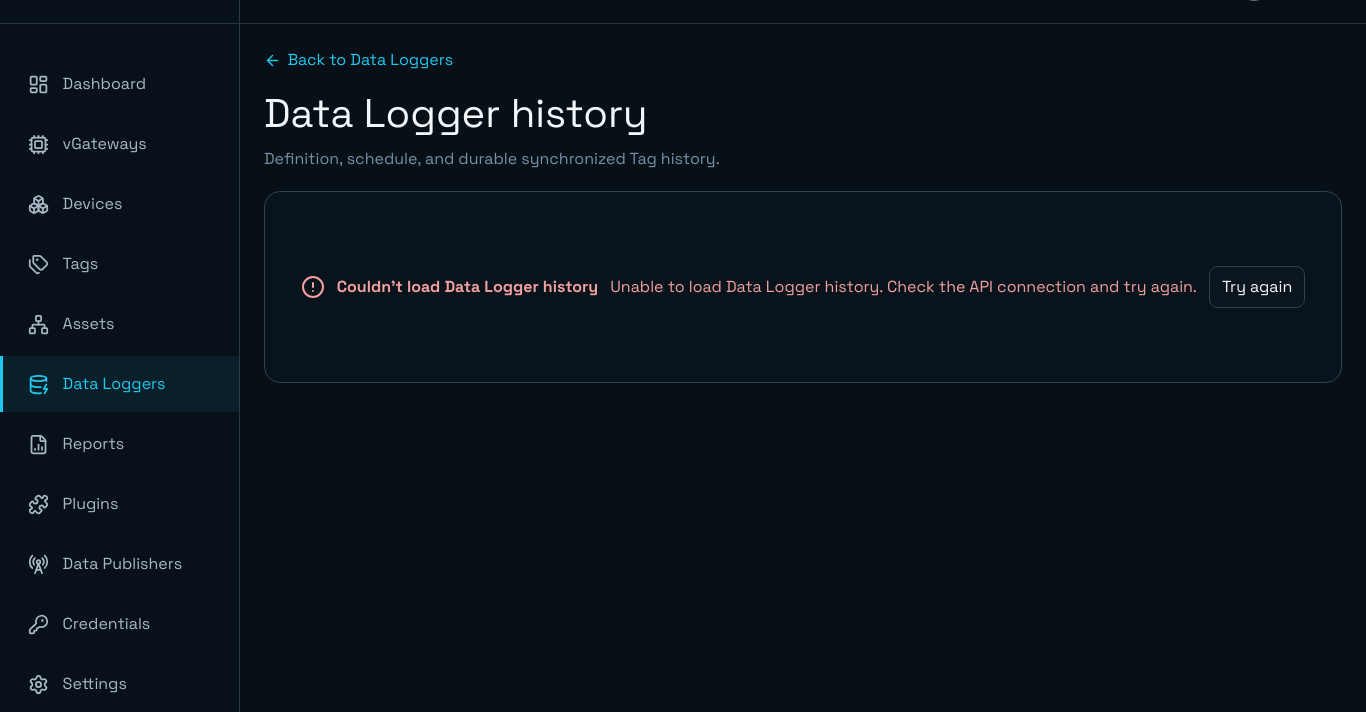
Test: DataLoggerDetailPage › shows empty filtered history, retries failures, and aborts in-flight requests
Expected: the message that starts with "Couldn’t load Data Logger history" shows "Unable to load Data Logger history", [610,276,1197,298]
Click the button "Try again": (1257,288) [1209,266,1305,308]
(page scrolled)
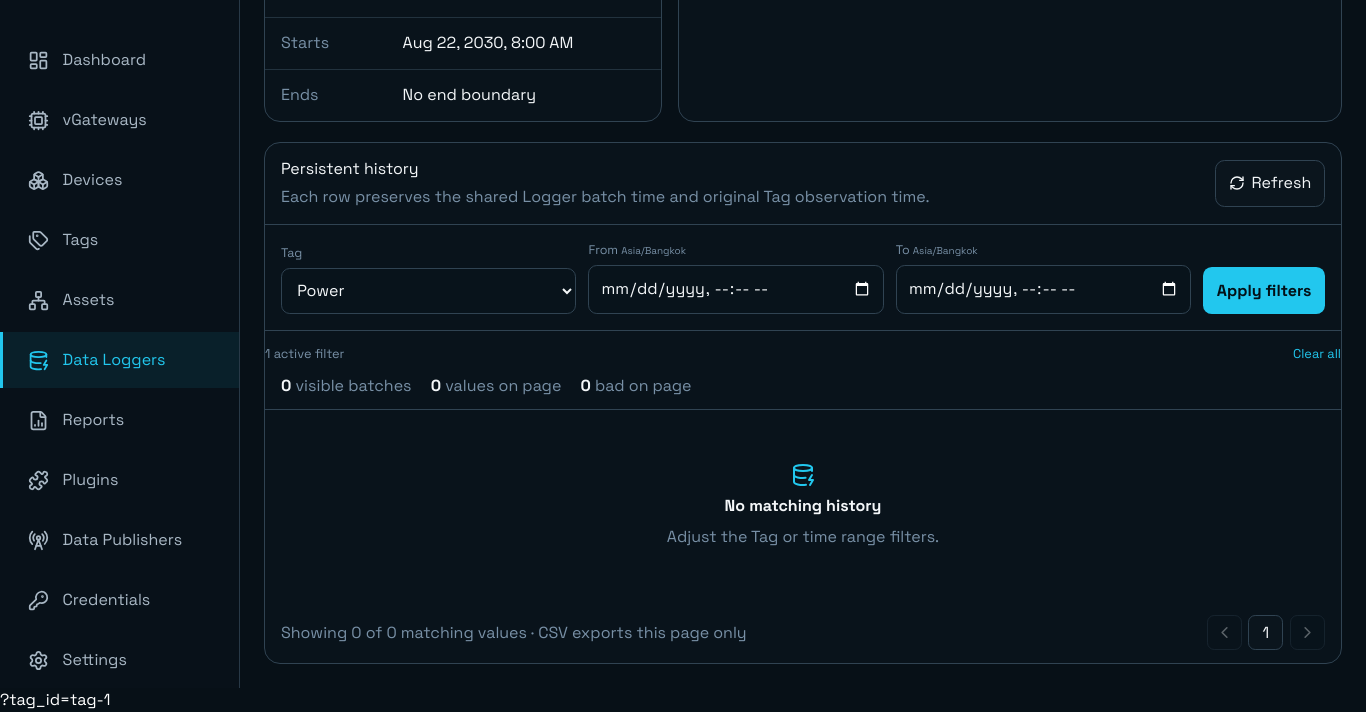
Result: the text "No matching history" is shown at [725,494,882,518]
